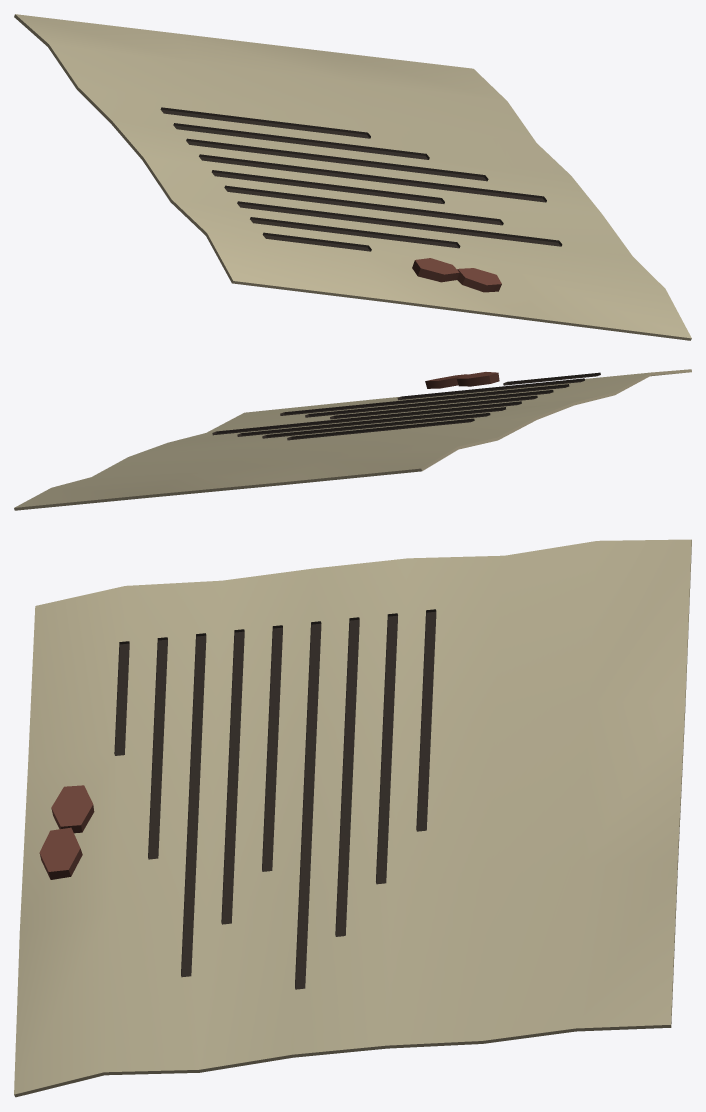
File: ph_tool_letter_open.glb
The picture shows the model from 3 angles, top to bottom: view 1: azimuth 30°, elevation 25°; view 2: azimuth 150°, elevation 25°; view 3: azimuth 270°, elevation 25°; orthographic projection. The views are drawn at different scales.
Parts seen in each view (by area): view 1: ph_tool_letter_open; view 2: ph_tool_letter_open; view 3: ph_tool_letter_open.
Boxes of the visible parts, x1,y1,x2,y2 form: ph_tool_letter_open: (14, 14, 691, 340); ph_tool_letter_open: (14, 369, 691, 510); ph_tool_letter_open: (14, 539, 691, 1097).
Size of the model in its own units: 0.2605 by 0.1192 by 0.2438.
